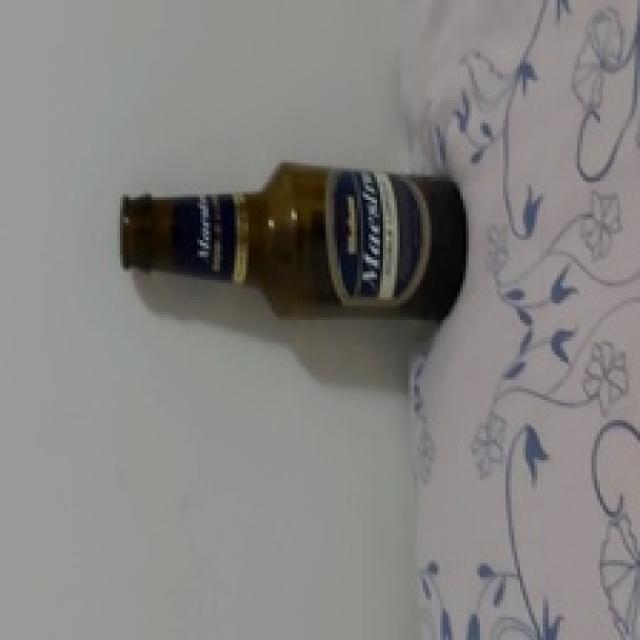Glass: (121, 162, 467, 317)
